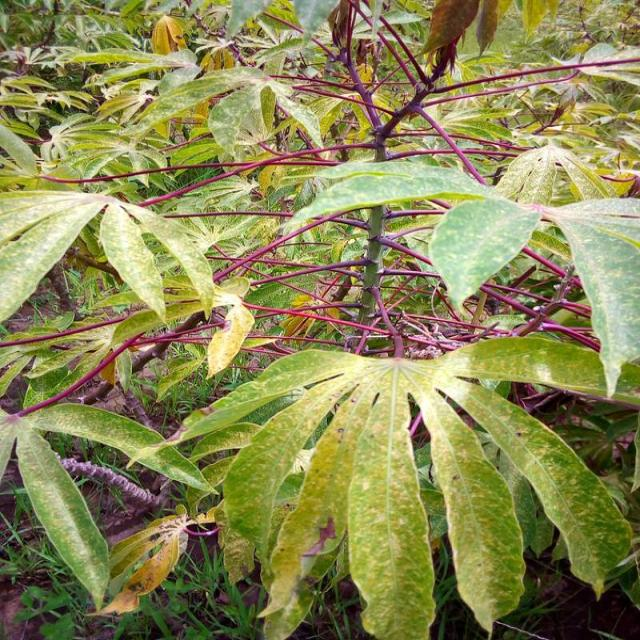cassava leaf: (0, 1, 638, 638), (162, 332, 634, 638), (427, 194, 540, 316)
